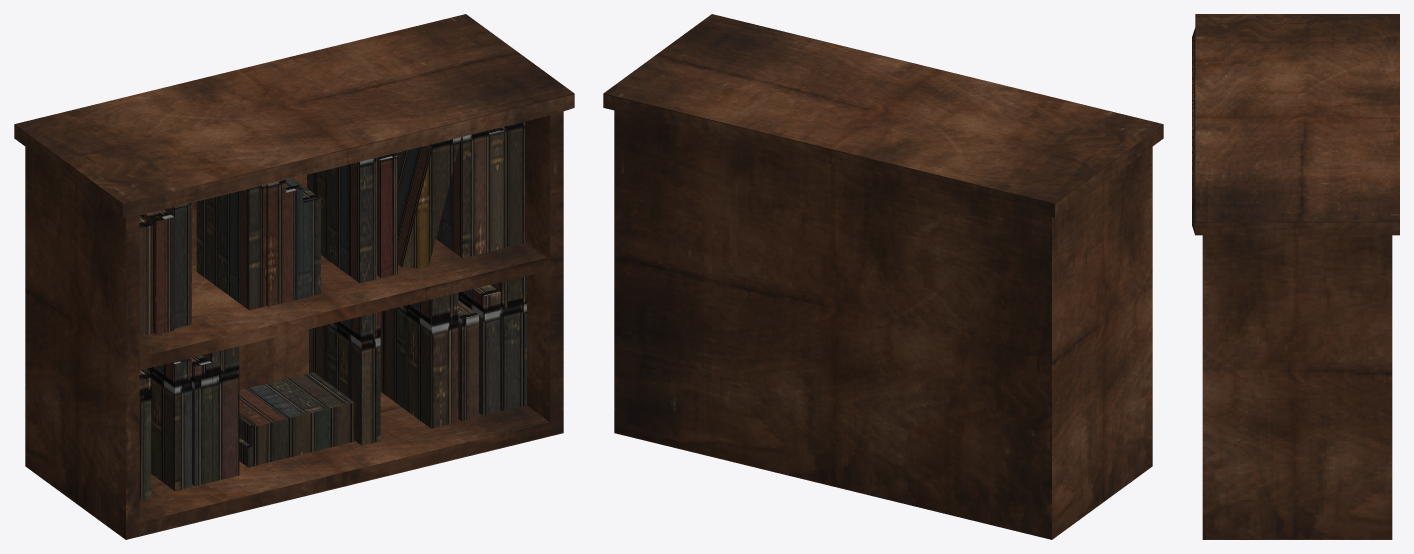
The model's file is bookshelf_small.glb.
The picture shows the model from 3 angles, left to right: view 1: azimuth 30°, elevation 25°; view 2: azimuth 150°, elevation 25°; view 3: azimuth 270°, elevation 25°; orthographic projection. The views are drawn at different scales.
Visible parts, largest first — view 1: env_bookshelf_small-col; view 2: env_bookshelf_small-col; view 3: env_bookshelf_small-col.
Boxes of the visible parts, <box> form: env_bookshelf_small-col: <box>14,14,574,539</box>; env_bookshelf_small-col: <box>603,14,1163,539</box>; env_bookshelf_small-col: <box>1192,14,1399,539</box>.
Size of the model in its own units: 1.61 by 1.16 by 0.6787.
2 materials, 2 textured.
